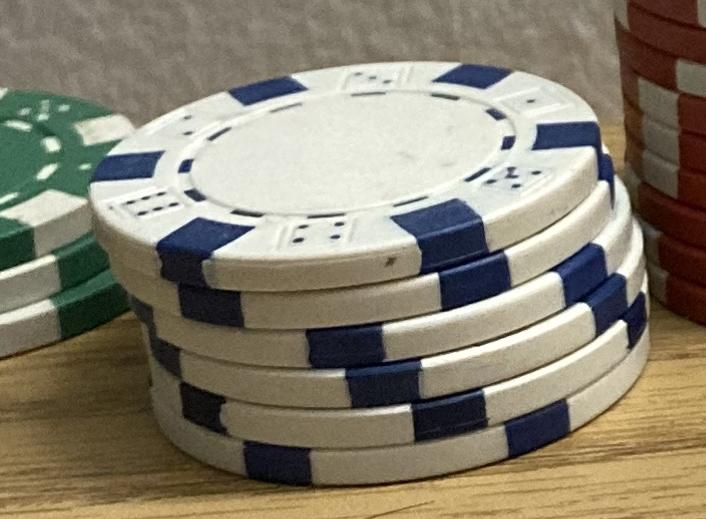Chip: (1, 1, 706, 519)
